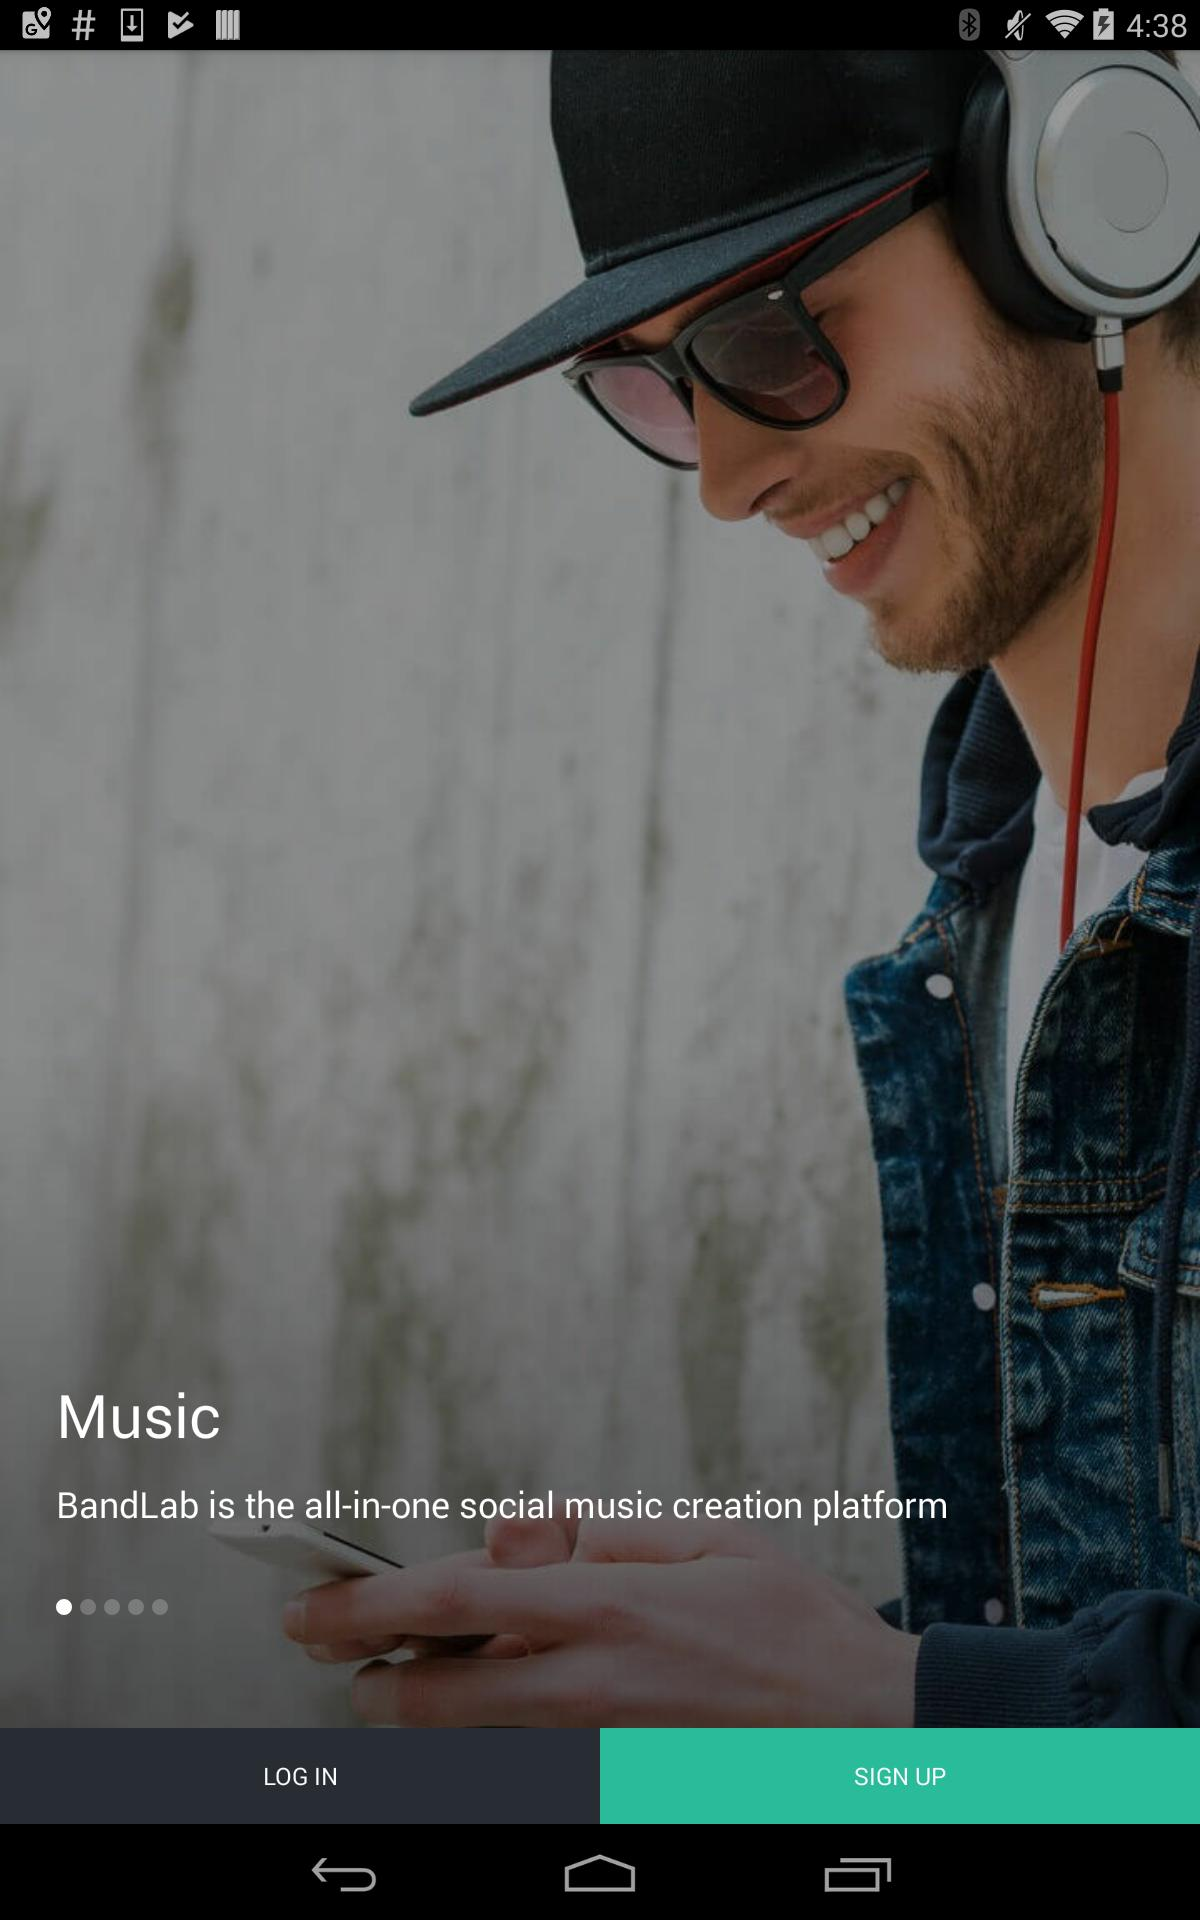android.support.v7.widget.RecyclerView: (0, 50, 1200, 1825)
android.view.View: (57, 1599, 169, 1616)
android.widget.Button: (0, 1728, 600, 1825), (600, 1728, 1200, 1825)
android.widget.FrameLayout: (0, 0, 1200, 1825), (0, 50, 1200, 1825)
android.widget.ImageView: (0, 50, 1200, 1825)
android.widget.LinearLayout: (0, 0, 1200, 1825), (0, 1317, 1200, 1584), (0, 1728, 1200, 1825)
android.widget.TextView: (57, 1374, 1143, 1456), (57, 1479, 948, 1527)
android.widget.ViewAnimator: (0, 50, 1200, 1825)
